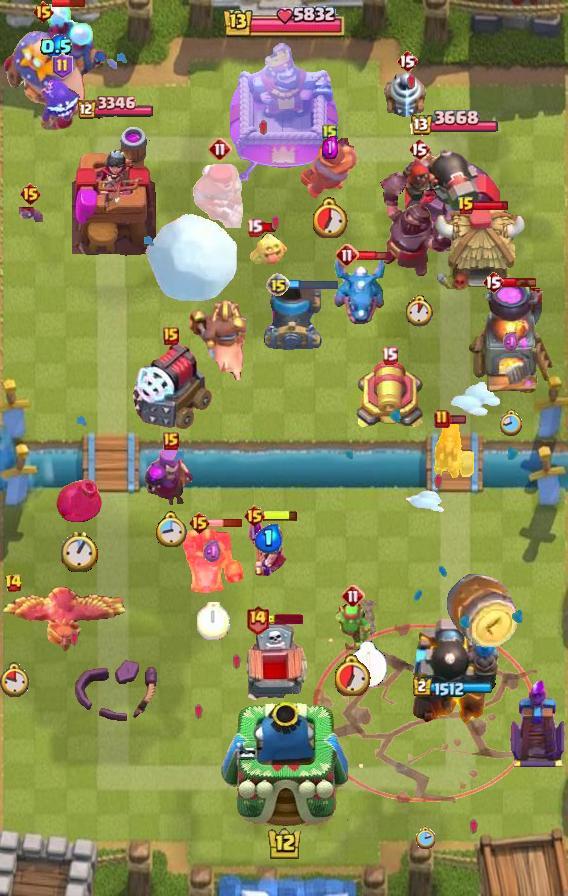baby-dragon: (53, 474, 105, 528)
barbarian-barrel: (17, 203, 43, 221)
bat-evolution: (249, 229, 289, 267)
clock: (221, 3, 347, 43)
dirt: (442, 571, 520, 649)
electro-spirit: (40, 34, 73, 60), (255, 523, 283, 552), (203, 539, 223, 564), (503, 331, 520, 353), (322, 137, 338, 160)
elixir: (348, 640, 388, 687), (61, 531, 99, 572), (335, 654, 371, 696), (312, 198, 348, 239), (198, 602, 231, 640), (155, 511, 187, 547), (0, 663, 30, 698), (405, 295, 436, 327), (500, 409, 523, 437), (415, 826, 435, 850)
elixir-golem-mid: (240, 623, 310, 709)
emote: (288, 279, 340, 291), (263, 510, 299, 523), (357, 249, 392, 262), (502, 276, 538, 288), (473, 201, 510, 212), (267, 614, 303, 624), (208, 518, 243, 528), (52, 0, 86, 8), (448, 414, 468, 426), (261, 222, 279, 233)
firecracker: (301, 138, 359, 198)
fisherman: (356, 600, 379, 650)
freeze: (188, 300, 246, 380), (181, 528, 245, 596)
giant-snowball: (334, 602, 372, 652)
goblin-drill: (381, 70, 433, 126)
golem: (128, 340, 214, 430)
graveyard: (333, 254, 387, 328)
guard: (313, 624, 537, 804)
hog-rider: (430, 420, 478, 482)
hunter: (467, 286, 555, 396)
ice-spirit-evolution-symbol: (508, 677, 568, 769)
king-tower: (220, 702, 348, 827), (230, 43, 338, 181)
little-prince: (2, 0, 110, 134)
mother-witch: (0, 585, 128, 657)
musketeer: (262, 286, 322, 350)
phoenix-small: (191, 164, 249, 228)
prince: (432, 206, 526, 296)
queen-tower: (72, 122, 156, 256)
rascal-girl: (144, 445, 198, 505)
royal-guardian: (373, 166, 465, 280)
royal-recruit: (353, 359, 425, 433)
selected: (408, 110, 498, 138), (75, 96, 153, 121), (414, 677, 495, 699)
spear-goblin: (41, 79, 83, 125)
tesla-evolution: (248, 518, 290, 582)
text: (245, 604, 270, 635), (208, 137, 232, 161), (335, 243, 359, 267), (266, 273, 290, 297), (341, 584, 365, 608), (51, 53, 73, 79), (33, 0, 56, 24), (19, 182, 42, 206), (242, 504, 265, 528), (189, 511, 212, 535), (396, 49, 418, 73), (408, 137, 430, 161), (482, 270, 504, 294), (4, 573, 24, 593), (457, 196, 475, 216), (245, 218, 263, 237), (382, 346, 399, 365), (322, 123, 338, 143), (434, 409, 450, 429), (163, 327, 179, 345), (163, 432, 179, 450)
tower-bar: (402, 136, 504, 256), (406, 611, 500, 731)
wall-breaker: (145, 212, 239, 304)
